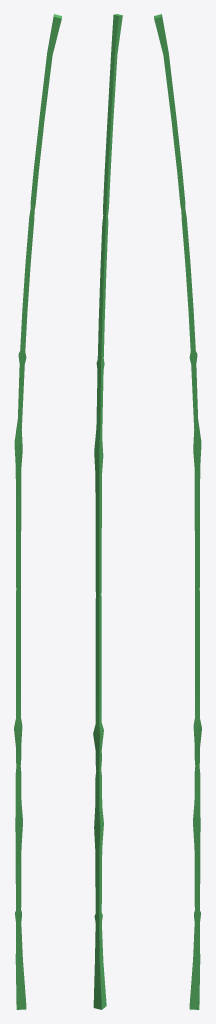
The model's file is jungle_slime_B_knots.fbx.
3 renders of one model, left to right at view 1: azimuth 90°, elevation 25°; view 2: azimuth 150°, elevation 25°; view 3: azimuth 270°, elevation 25°, orthographic.
Visible parts, largest first — view 1: jungle_slime_B_knots; view 2: jungle_slime_B_knots; view 3: jungle_slime_B_knots.
Part boxes in pixels (x1,y1,x2,y2): jungle_slime_B_knots: (14, 14, 61, 1009); jungle_slime_B_knots: (93, 14, 122, 1009); jungle_slime_B_knots: (154, 14, 201, 1009).
Bounding box in the file's own units: 6.15 × 696 × 30.33.
